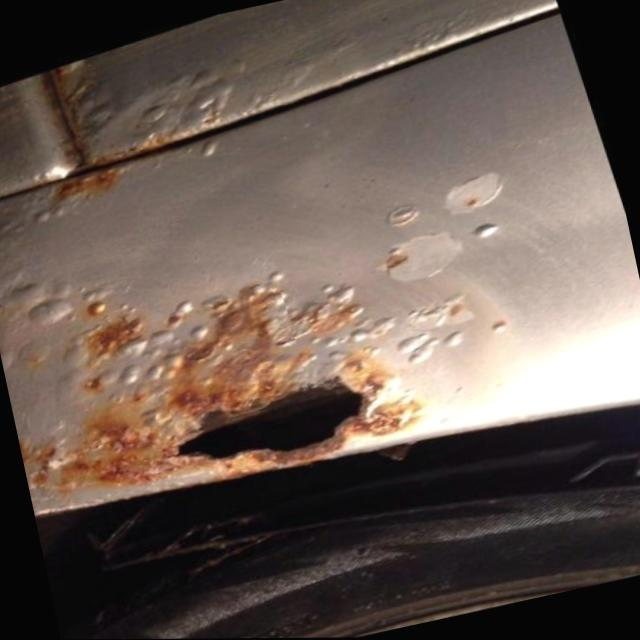Crack: (167, 371, 364, 464)
Rust: (0, 34, 435, 501), (398, 291, 474, 366), (375, 231, 463, 283), (438, 167, 506, 213), (382, 200, 420, 232), (473, 220, 499, 240), (489, 317, 515, 335)
